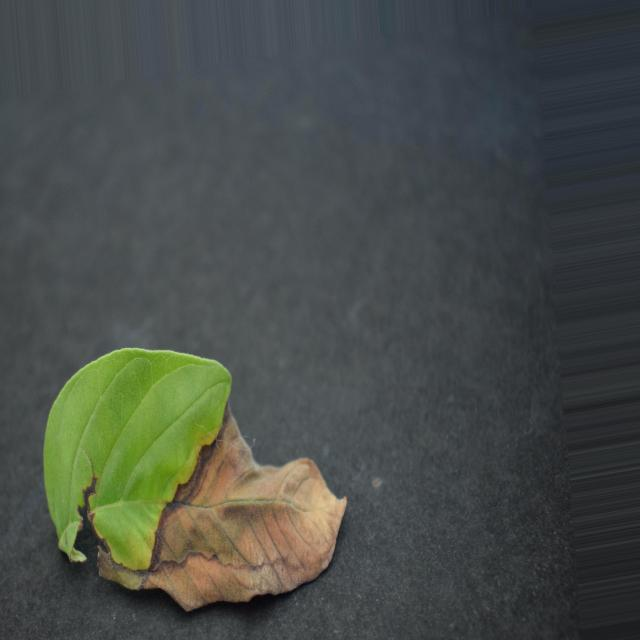Mummification: (44, 349, 346, 611)
